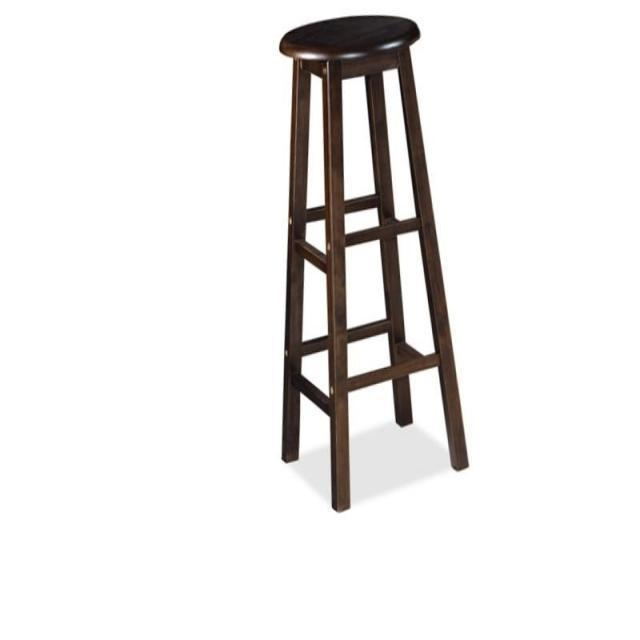chair: (278, 11, 480, 516)
